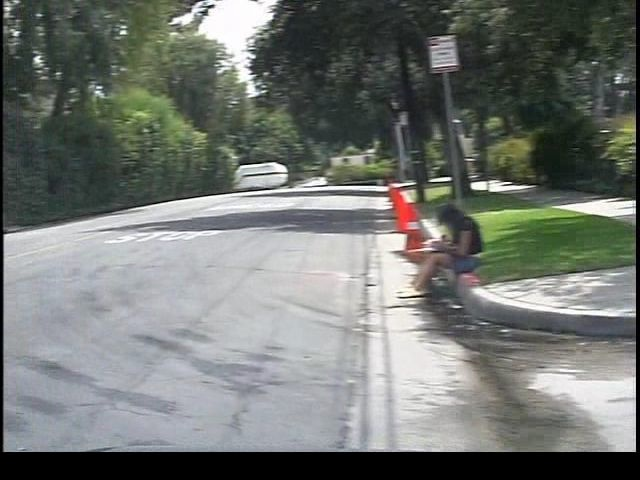person: (380, 196, 475, 299)
